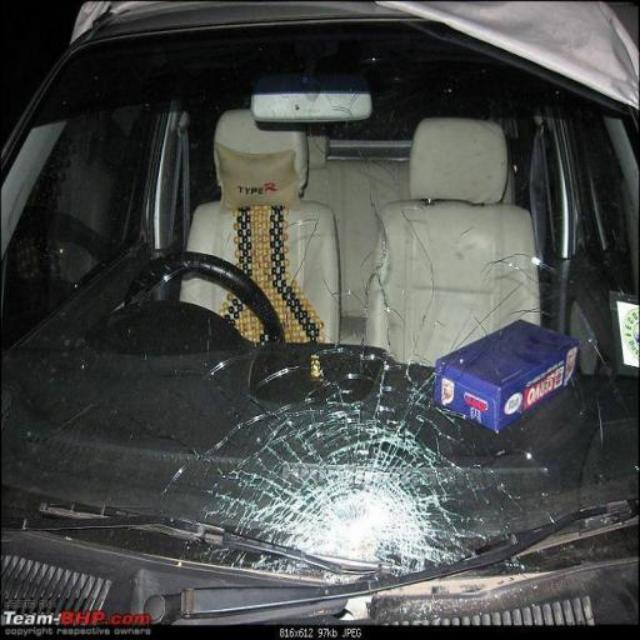glass shatter: (253, 417, 451, 562)
